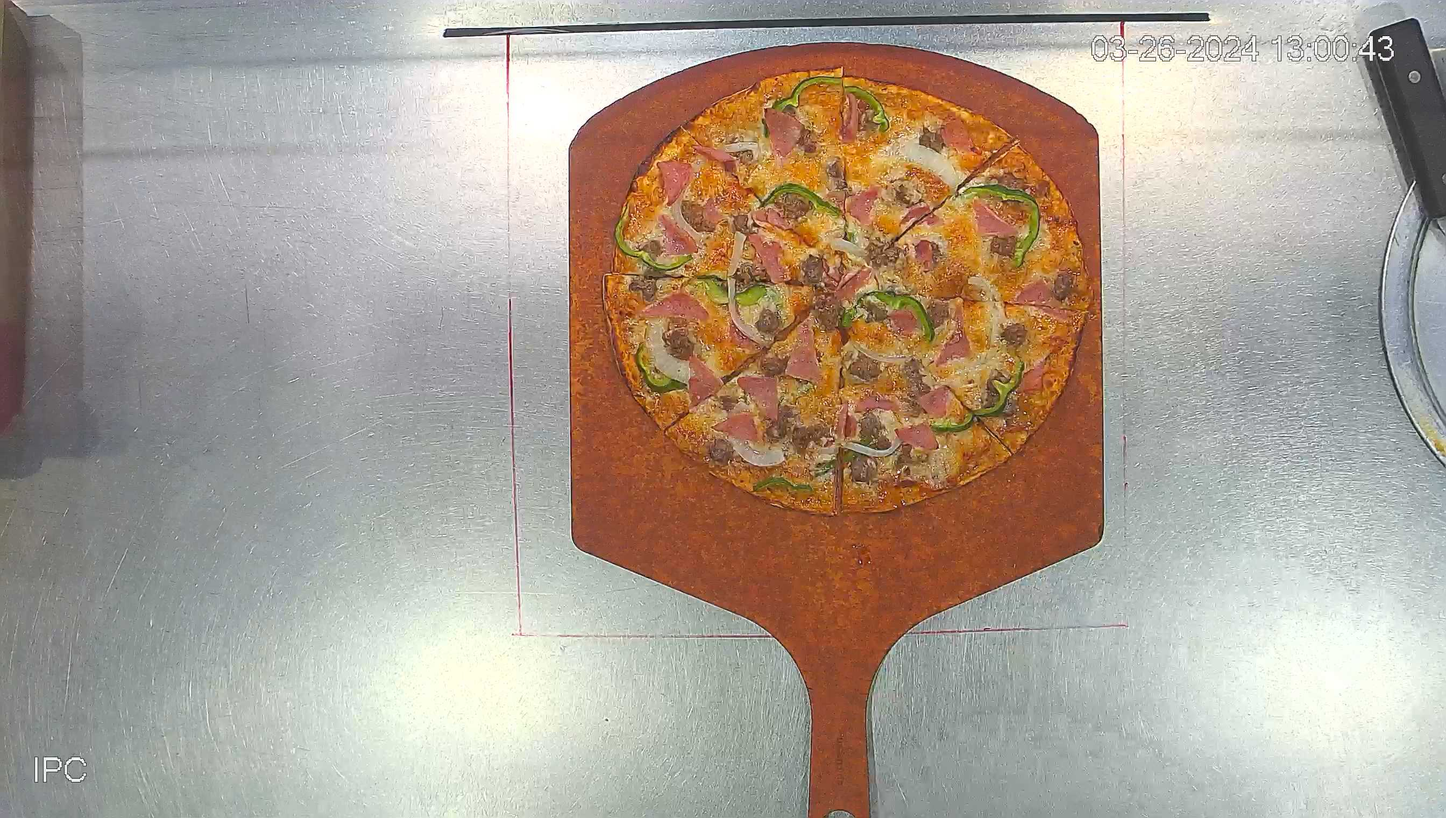hawaiian: (607, 68, 1087, 516)
